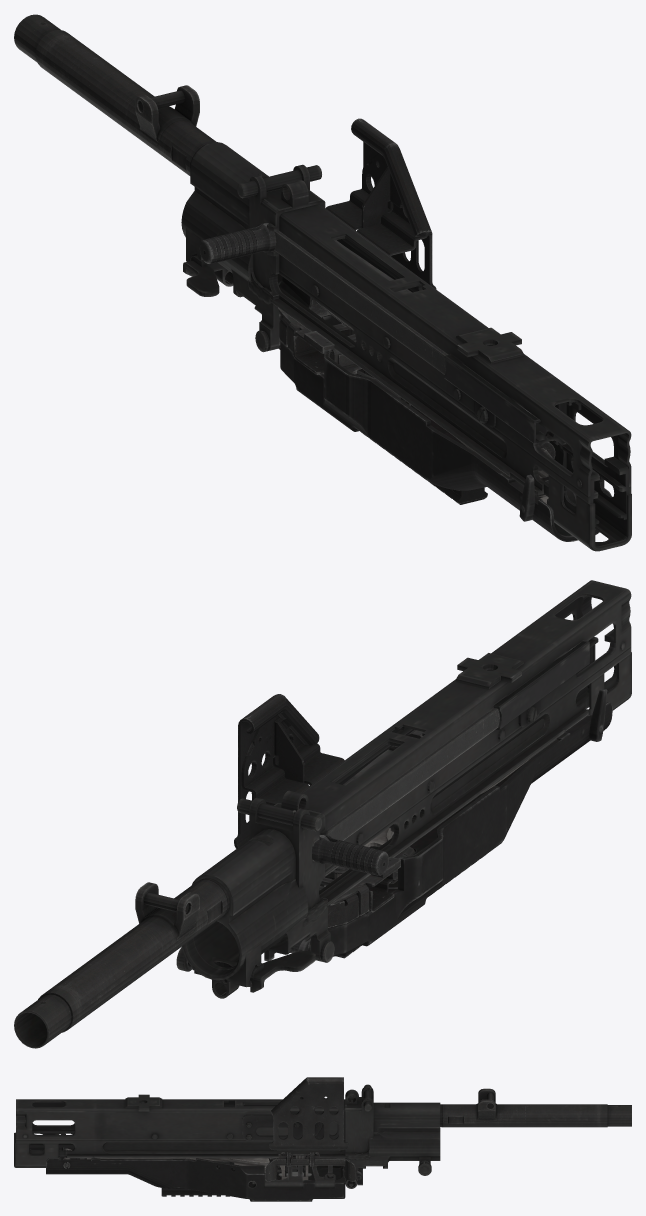
The picture shows the model from 3 angles, top to bottom: view 1: azimuth 30°, elevation 25°; view 2: azimuth 150°, elevation 25°; view 3: azimuth 270°, elevation 25°; orthographic projection. The views are drawn at different scales.
Visible parts, largest first — view 1: TW_661ceb1b9311543c7104149b_PZ_Import; view 2: TW_661ceb1b9311543c7104149b_PZ_Import; view 3: TW_661ceb1b9311543c7104149b_PZ_Import.
Boxes of the visible parts, left/top/right/bottom form: TW_661ceb1b9311543c7104149b_PZ_Import: left=14, top=14, right=631, bottom=551; TW_661ceb1b9311543c7104149b_PZ_Import: left=14, top=580, right=631, bottom=1048; TW_661ceb1b9311543c7104149b_PZ_Import: left=14, top=1077, right=631, bottom=1201.
Bounding box in the file's own units: 0.0632 × 0.3955 × 0.0922.
1 material, 1 textured.
